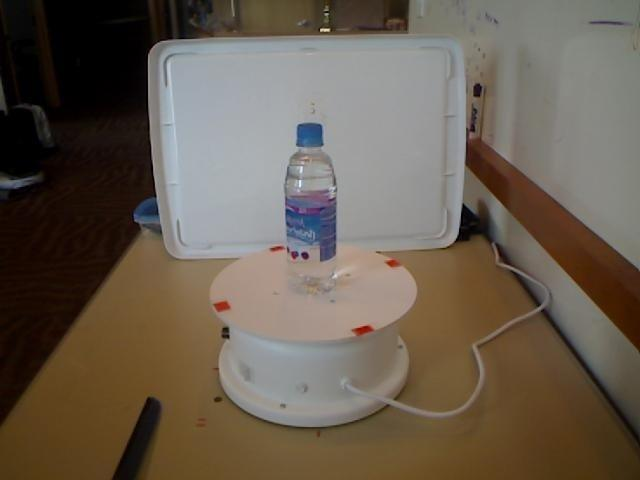bottle-plastic: (277, 117, 343, 300)
